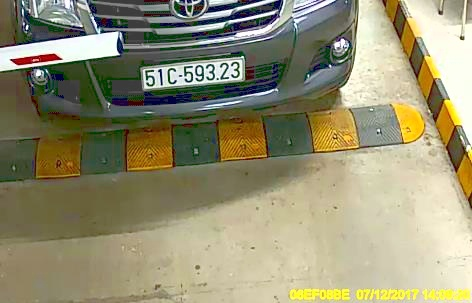plate: (138, 58, 249, 91)
